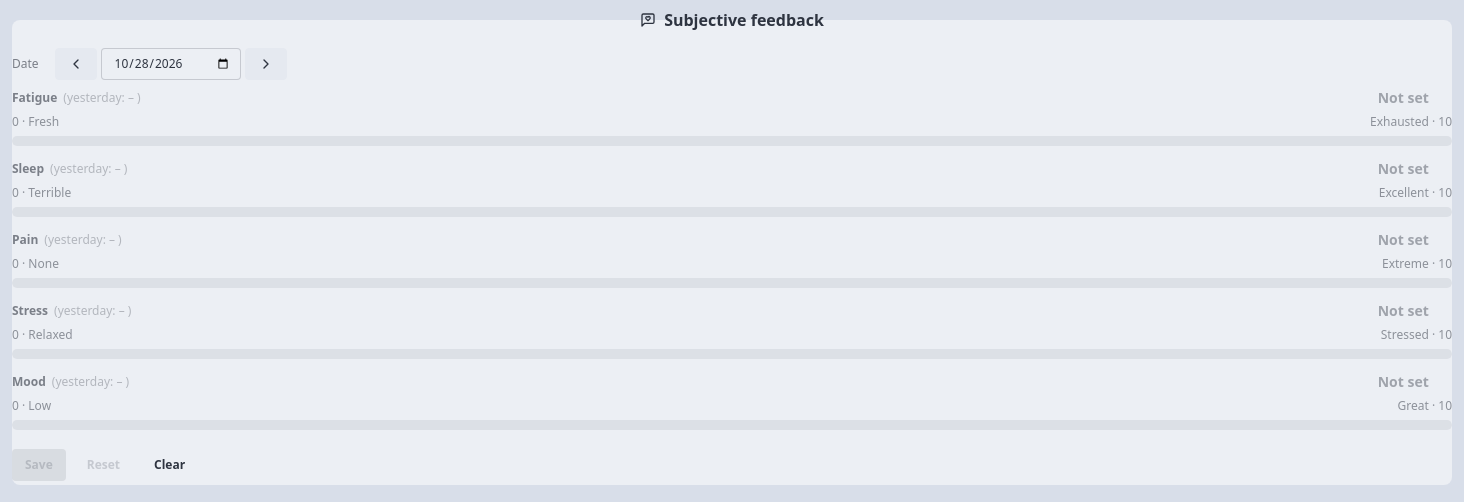
Test: HooperIndexForm › shows the previous day value as day before when the selected date is not today
This screenshot has width=1464, height=502.
Type "2026-02-11" into the date field labelled "Date" at (171, 64), box [101,48,241,80]
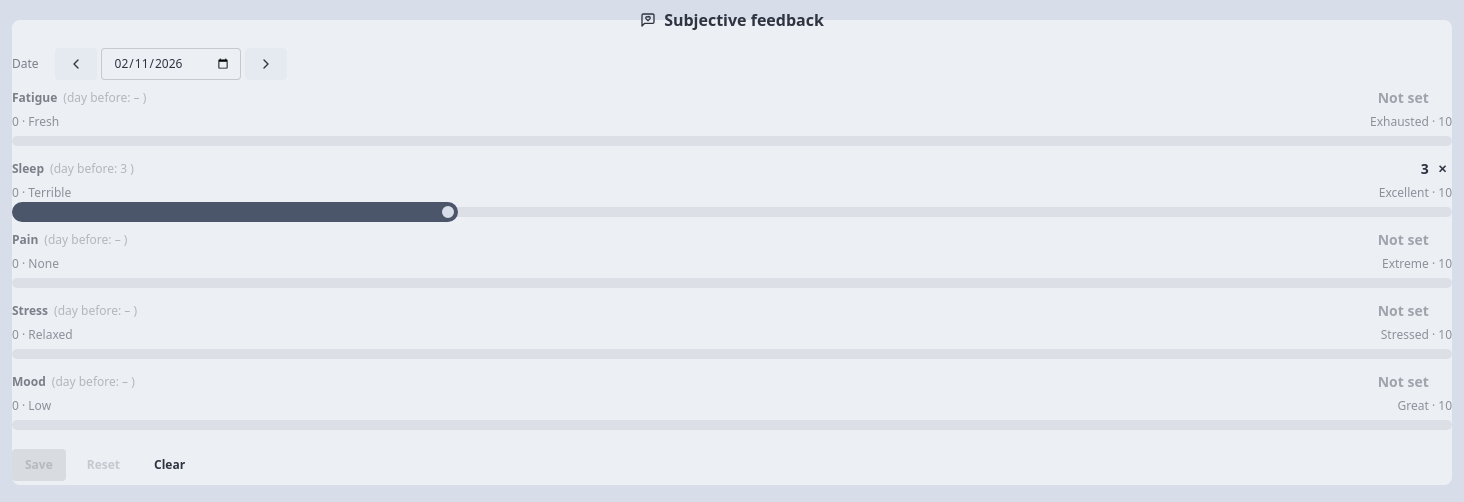
expect the text "(day before: 3 )" is shown: met, box [50,161,134,177]
